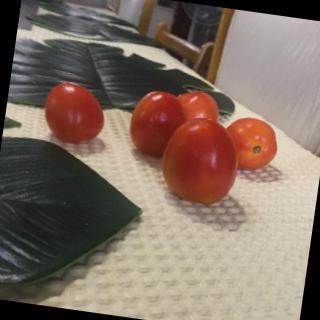Tomat: (118, 77, 291, 221), (24, 70, 121, 149)
